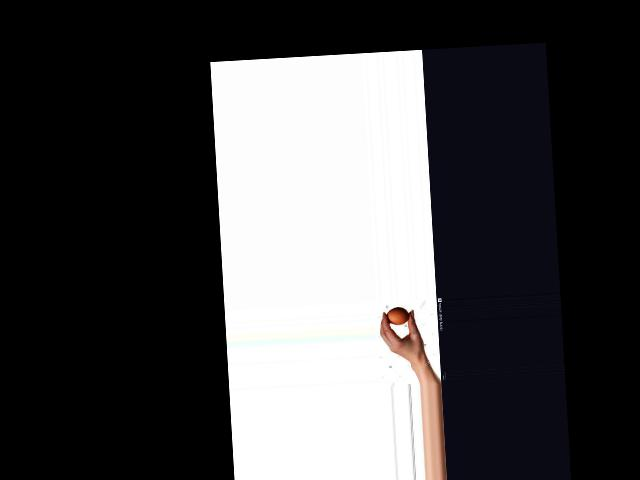egg: (386, 306, 410, 326)
